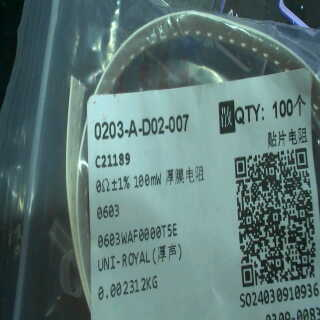0R: (89, 170, 163, 225)
